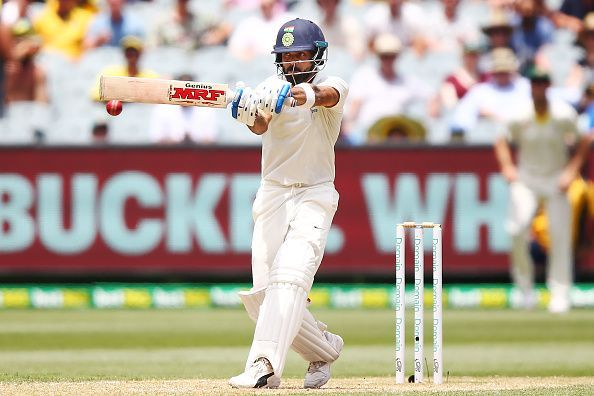Pullshot: (43, 0, 419, 396)
